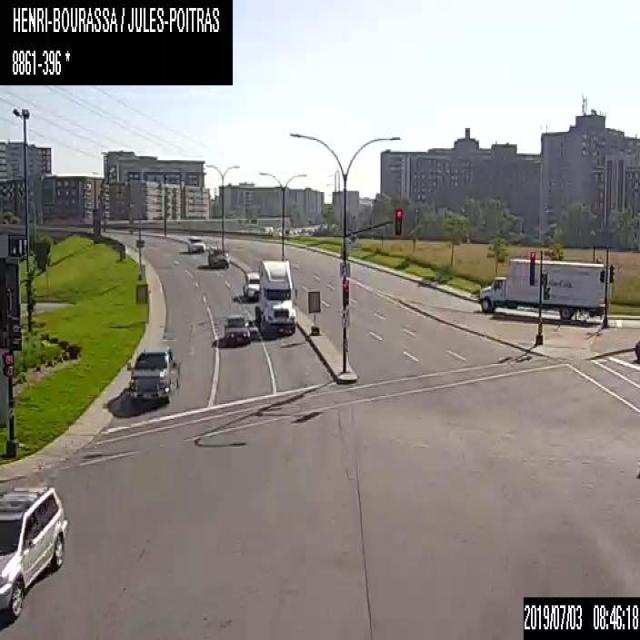vehicle: (0, 482, 67, 620), (477, 253, 612, 319), (254, 258, 296, 334), (126, 347, 178, 400), (223, 312, 249, 345), (242, 270, 260, 298), (206, 247, 228, 268), (186, 235, 204, 253), (634, 340, 639, 363)
